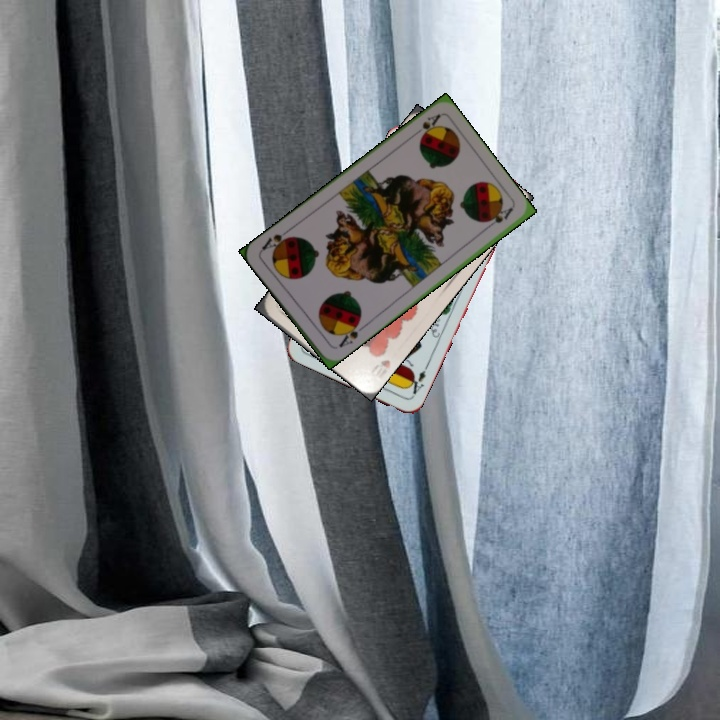EA: (403, 361, 431, 400)
H10: (367, 355, 393, 381)
SA: (407, 110, 443, 142), (334, 317, 367, 350)
